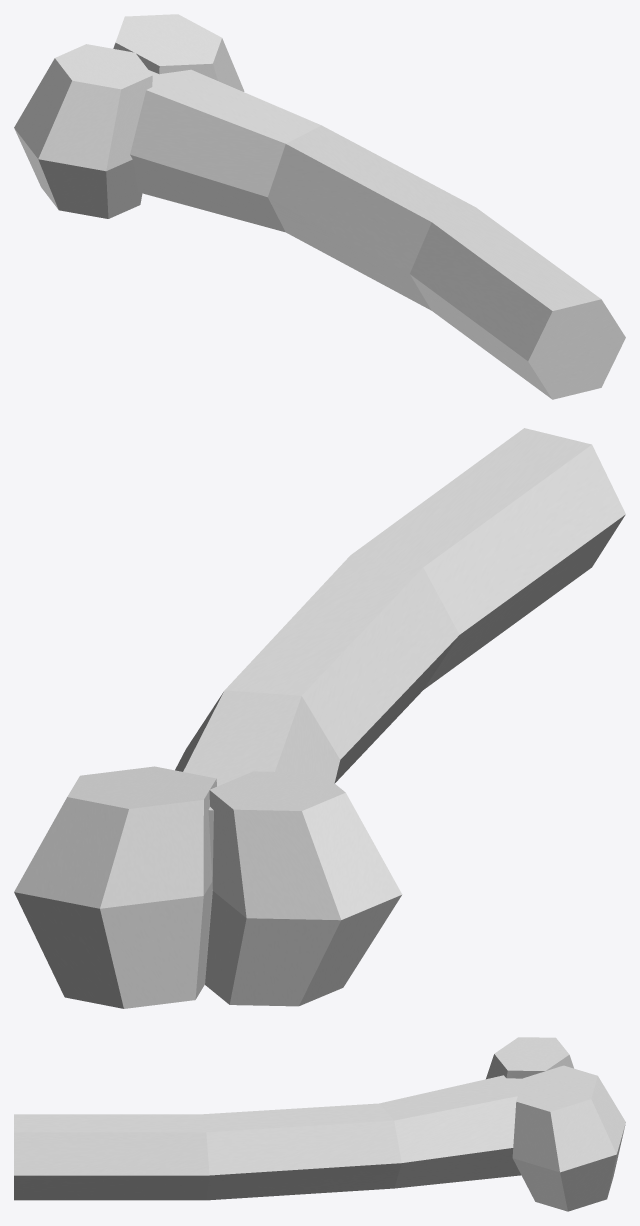
File: desert_share_bone_3.FBX
3 renders of one model, top to bottom at view 1: azimuth 30°, elevation 25°; view 2: azimuth 150°, elevation 25°; view 3: azimuth 270°, elevation 25°, orthographic. The views are drawn at different scales.
Parts seen in each view (by area): view 1: bone_1; view 2: bone_1; view 3: bone_1.
Boxes of the visible parts, x1,y1,x2,y2 form: bone_1: (14,14,625,399); bone_1: (14,428,625,1008); bone_1: (14,1037,625,1211).
Bounding box in the file's own units: 30.93 × 17.31 × 81.61.
